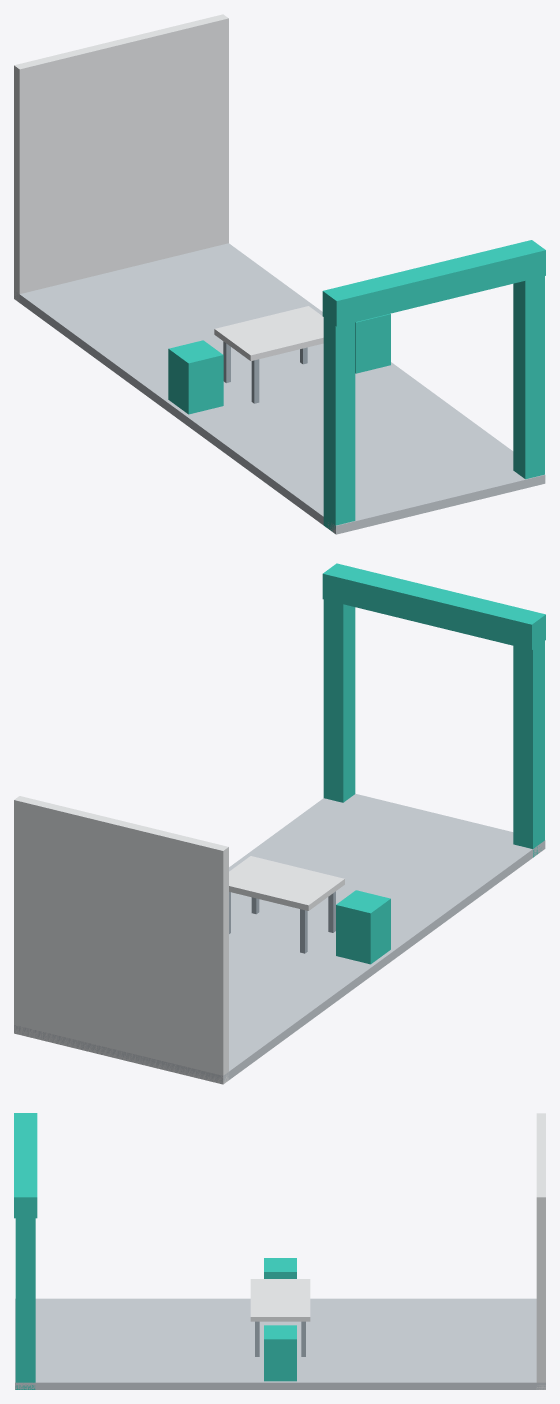
3 renders of one model, top to bottom at view 1: azimuth 30°, elevation 25°; view 2: azimuth 150°, elevation 25°; view 3: azimuth 270°, elevation 25°, orthographic. The views are drawn at different scales.
Visible parts, largest first — view 1: Exhibition Booth Concept; view 2: Exhibition Booth Concept; view 3: Exhibition Booth Concept.
Boxes of the visible parts, box(x1,y1,x2,y2) form: Exhibition Booth Concept: box(14, 14, 545, 534); Exhibition Booth Concept: box(14, 563, 545, 1084); Exhibition Booth Concept: box(14, 1113, 545, 1389).
Size of the model in its own units: 3 by 3.2 by 8.01.
